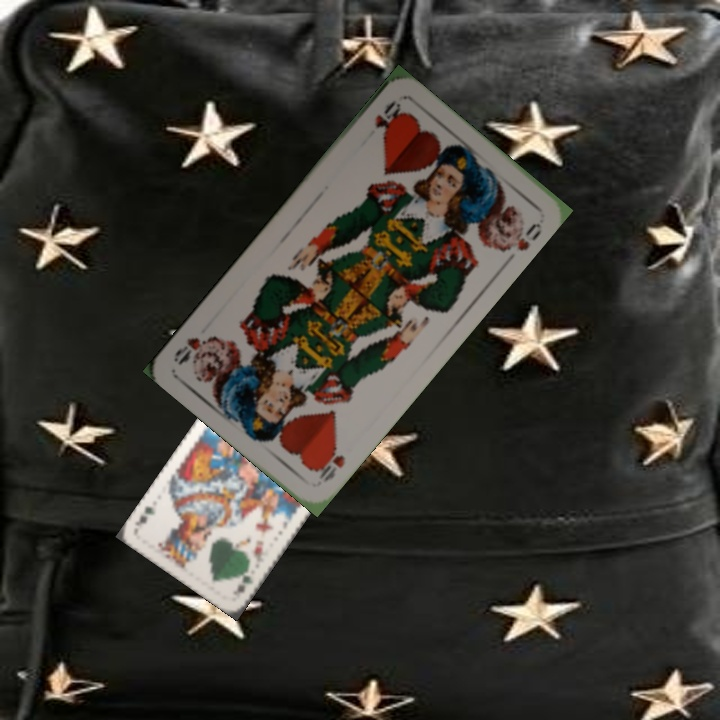GK: (228, 562, 254, 601)
HO: (311, 439, 348, 485), (370, 96, 404, 132)
